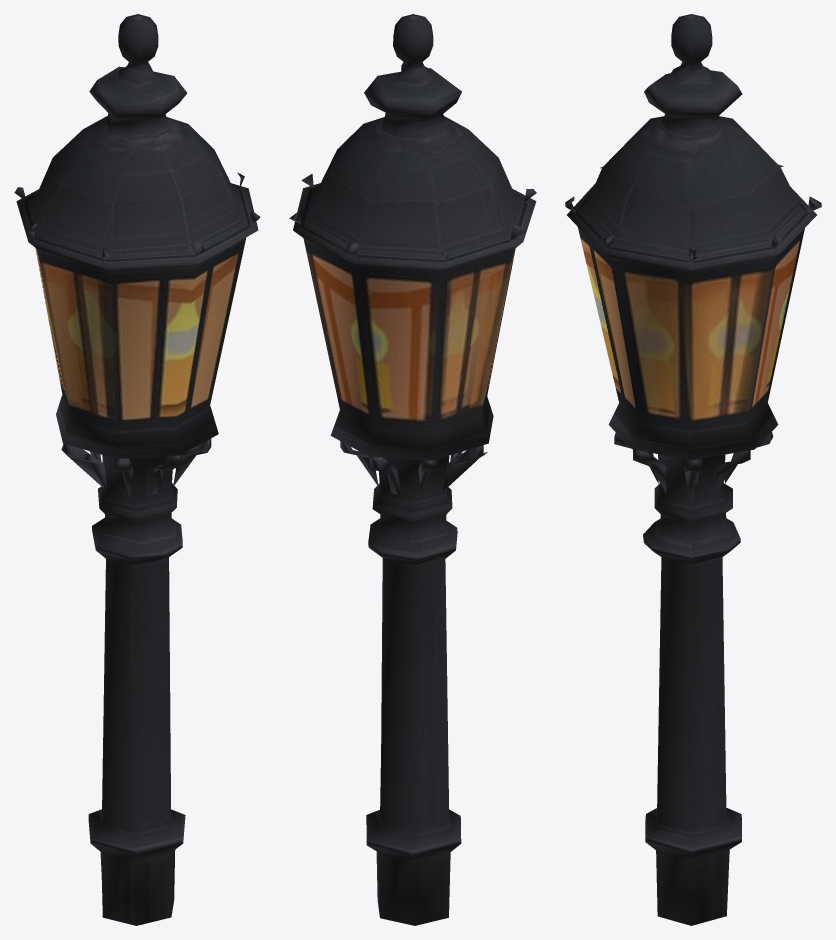
The model's file is lamppost.glb.
3 views of the same model, side by side, from view 1: azimuth 30°, elevation 25°; view 2: azimuth 150°, elevation 25°; view 3: azimuth 270°, elevation 25° (orthographic).
Size of the model in its own units: 1.1 by 4.2 by 1.1.
1 material, 1 textured.
